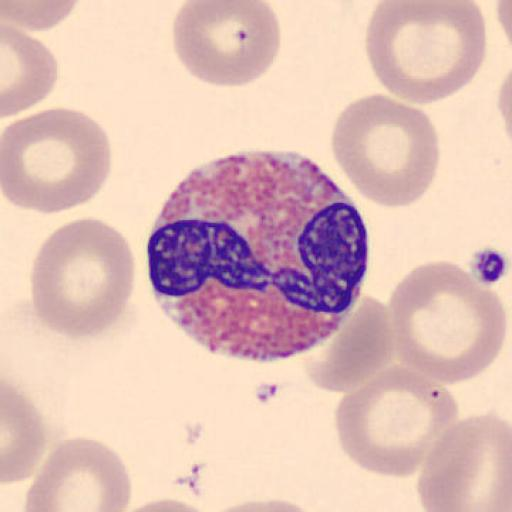RBC: (386, 258, 506, 387), (333, 364, 459, 478), (29, 215, 137, 341), (330, 91, 441, 209), (365, 0, 488, 106), (1, 104, 114, 216), (171, 0, 283, 89), (415, 410, 512, 512), (299, 293, 395, 394), (23, 434, 133, 512), (2, 21, 58, 117), (1, 378, 47, 485), (3, 0, 84, 32), (197, 495, 338, 512), (110, 495, 218, 512), (194, 499, 324, 512), (496, 68, 512, 140), (495, 0, 512, 59), (495, 0, 512, 44)
WBC: (143, 156, 372, 362)
